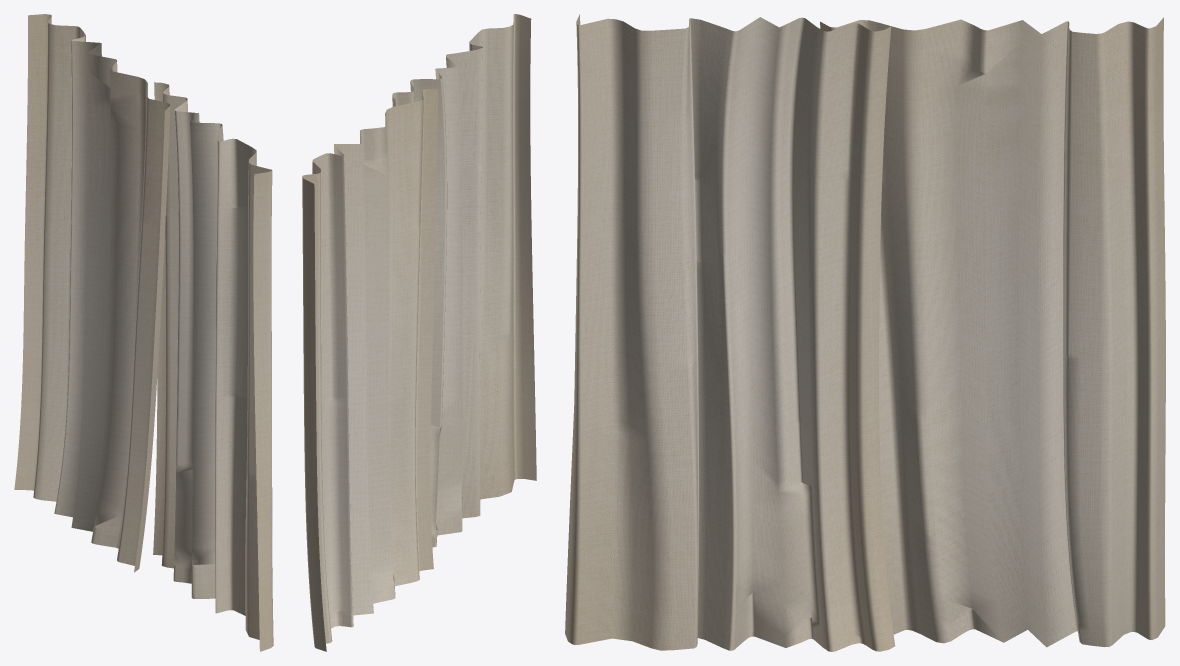
File: Meditation_ExitCurtains.fbx
The picture shows the model from 3 angles, left to right: view 1: azimuth 30°, elevation 25°; view 2: azimuth 150°, elevation 25°; view 3: azimuth 270°, elevation 25°; orthographic projection. The views are drawn at different scales.
Parts seen in each view (by area): view 1: Meditation_ExitCurtainFR, Meditation_ExitCurtainBA; view 2: Meditation_ExitCurtainFR, Meditation_ExitCurtainBA; view 3: Meditation_ExitCurtainBA, Meditation_ExitCurtainFR.
Part boxes in pixels (left/top/right/bottom): Meditation_ExitCurtainFR: left=14, top=14, right=170, bottom=572; Meditation_ExitCurtainBA: left=153, top=82, right=273, bottom=651; Meditation_ExitCurtainFR: left=302, top=88, right=438, bottom=651; Meditation_ExitCurtainBA: left=392, top=14, right=536, bottom=547; Meditation_ExitCurtainBA: left=565, top=14, right=895, bottom=651; Meditation_ExitCurtainFR: left=820, top=17, right=1165, bottom=647.
Bounding box in the file's own units: 15.26 × 157 × 136.
Materials: 2 (2 with a texture image).
